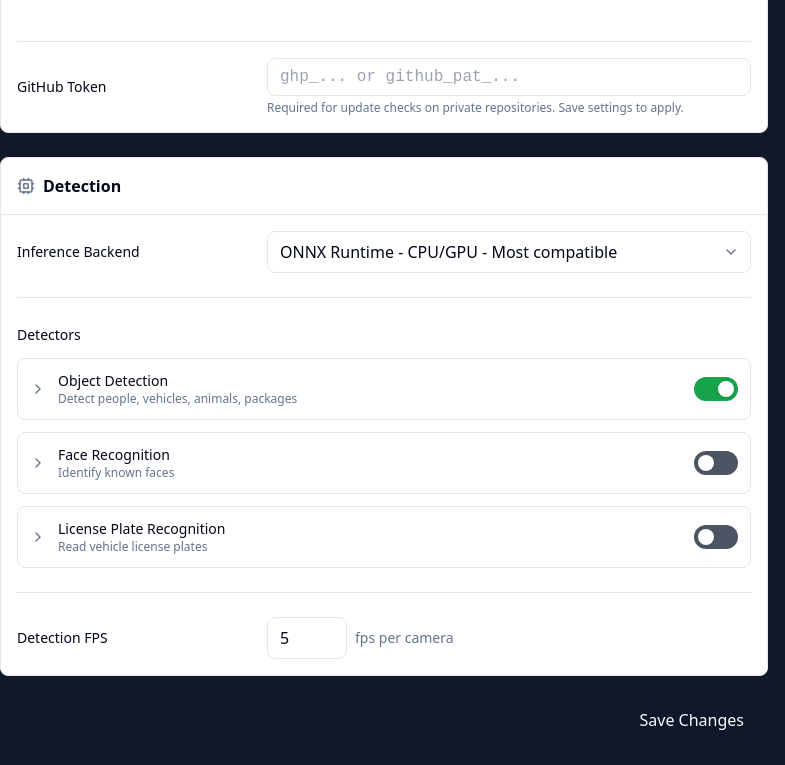
Settings › should expand Object Detection when clicked
(page scrolled)
// Click on Object Detection to expand it
Click the text "Object Detection".
click(113, 380)  # box [58,371,168,390]
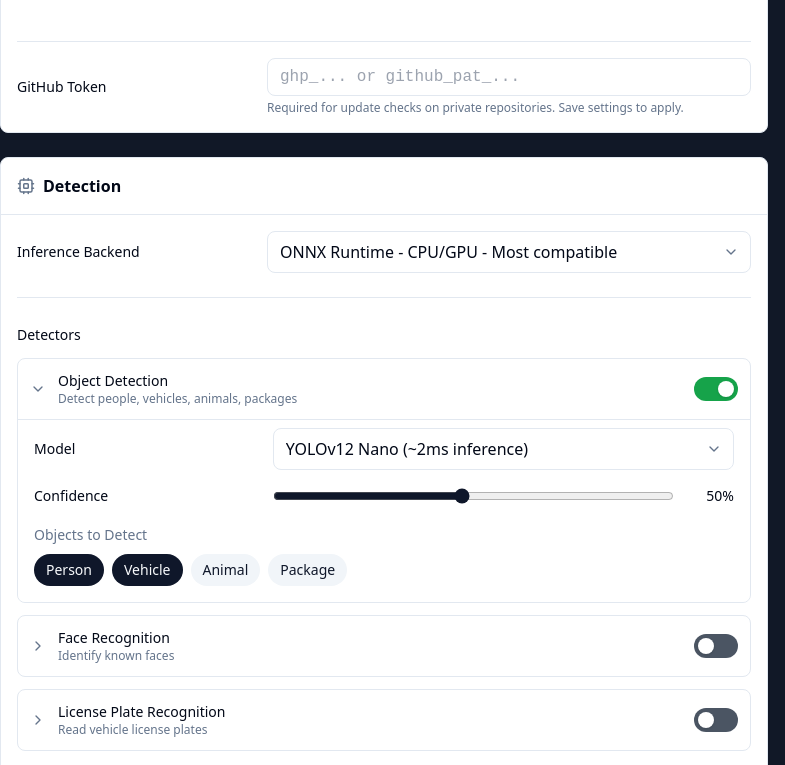
Check: the text "Model" is shown, box [34,439,75,458]
